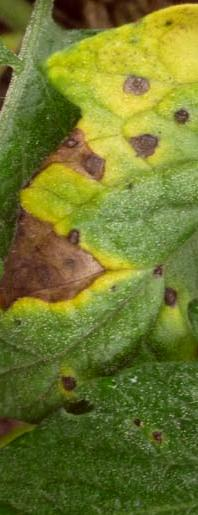Tomato Early blight leaf: (0, 0, 198, 418)
